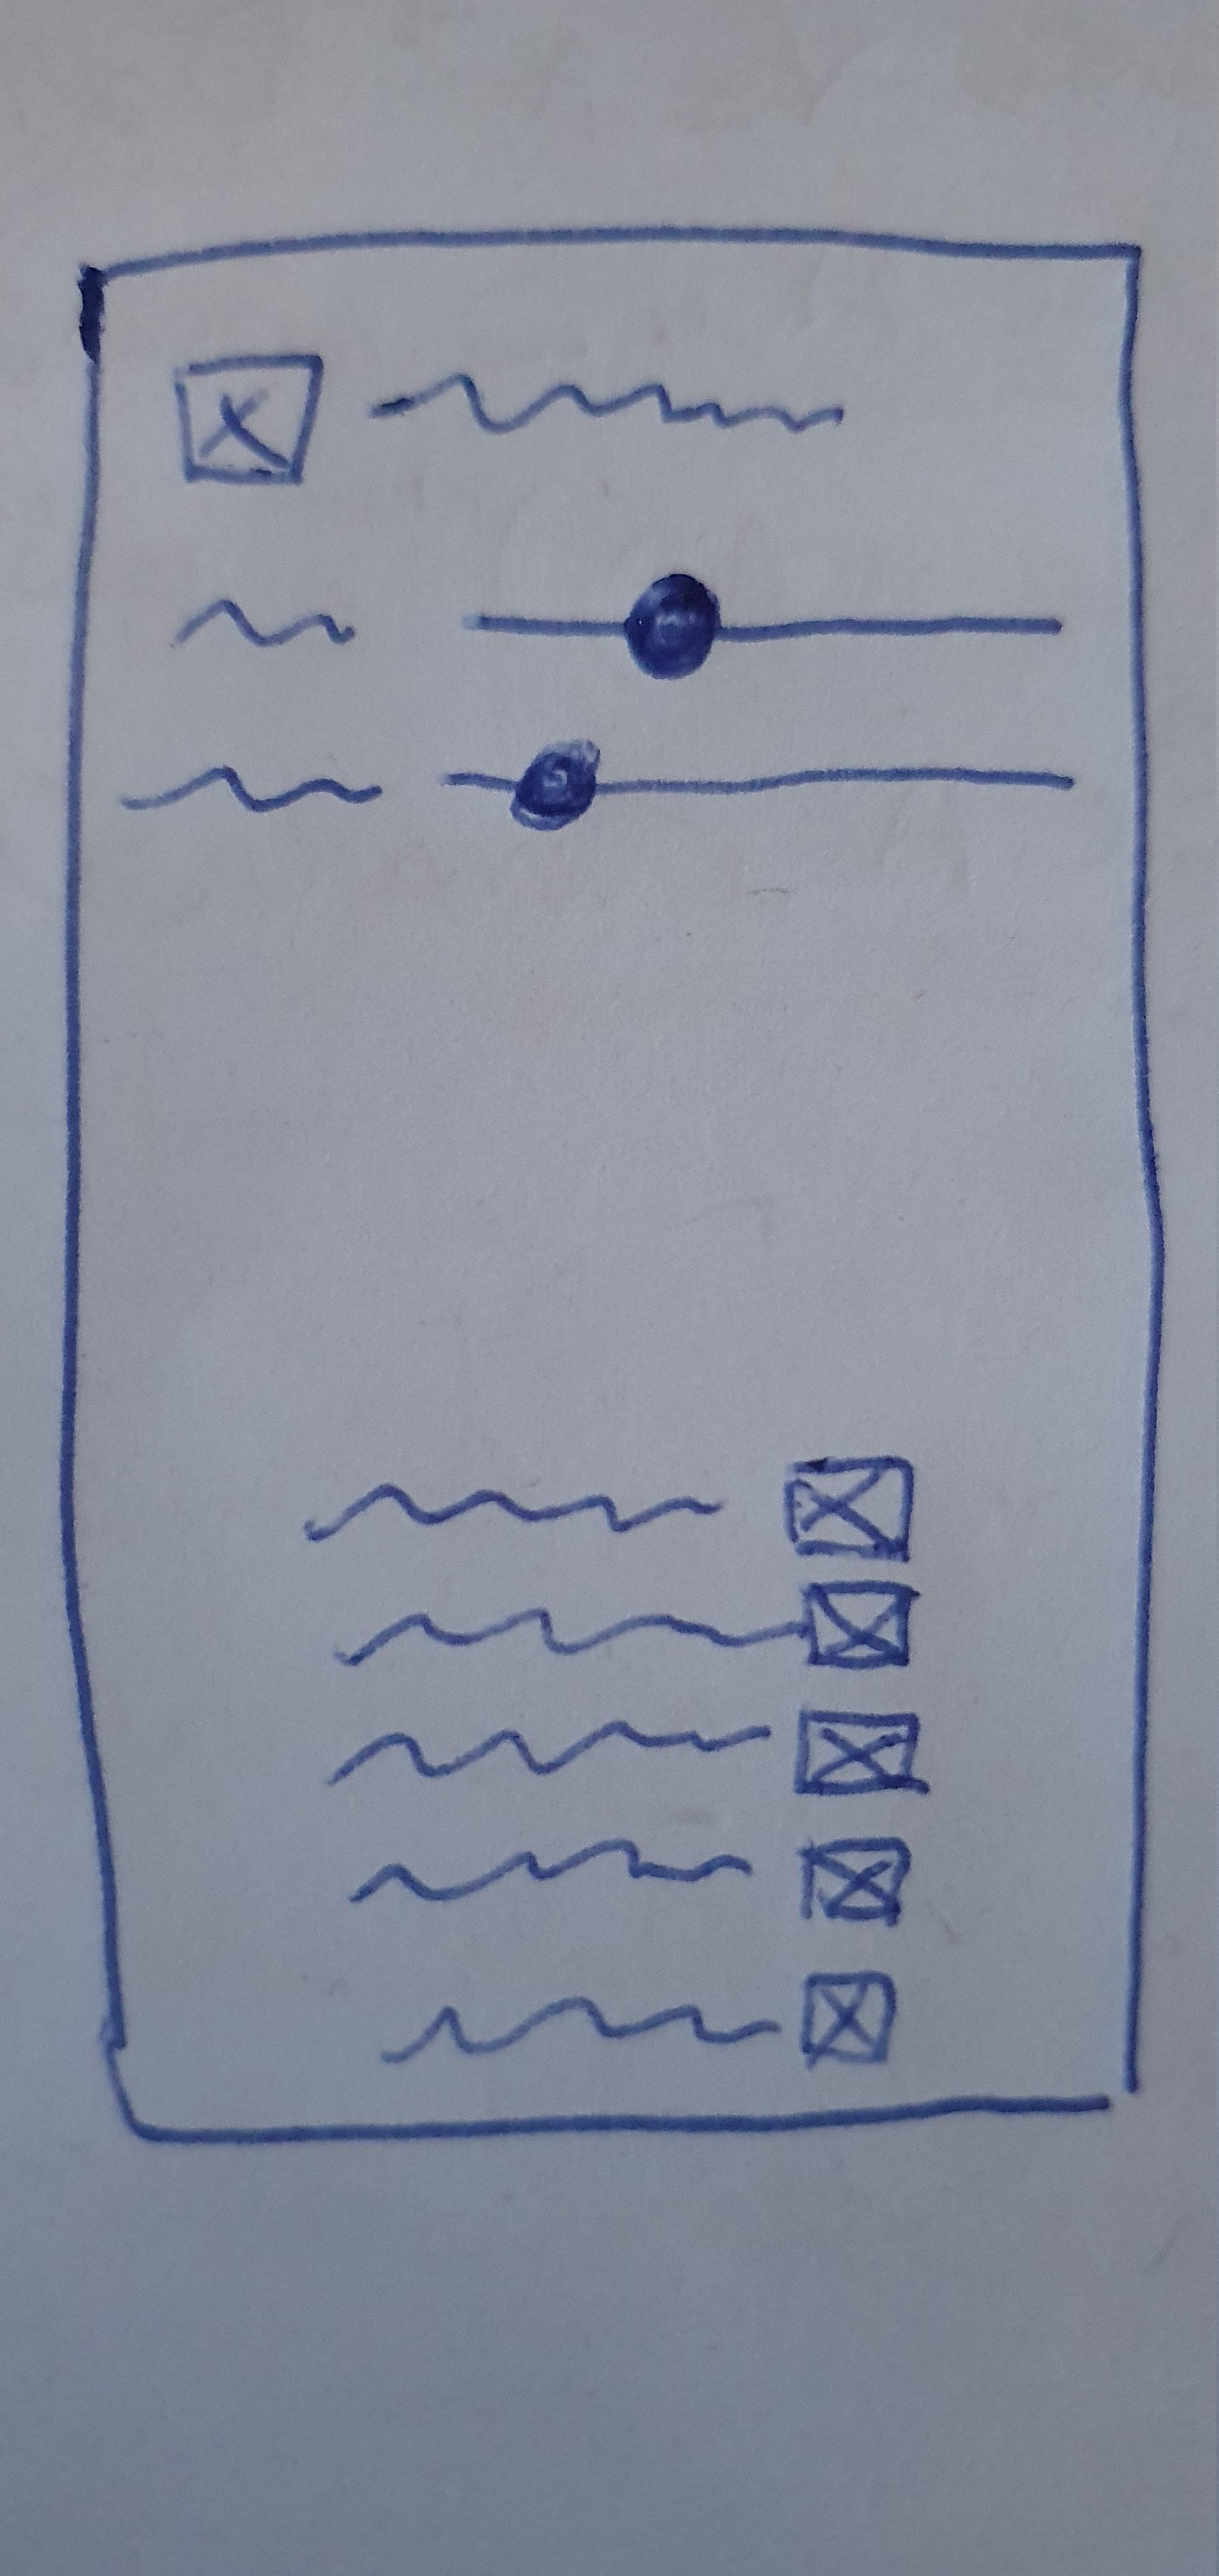CheckBox: (173, 348, 848, 484)
Image: (782, 1452, 916, 1562), (796, 1706, 922, 1794), (802, 1580, 918, 1670), (798, 1837, 912, 1928), (801, 1972, 898, 2061)
Label: (329, 1716, 772, 1788), (335, 1608, 806, 1668), (353, 1837, 755, 1905), (381, 1995, 782, 2063), (305, 1478, 726, 1540), (119, 763, 385, 817), (173, 592, 359, 646)
Screen: (59, 226, 1163, 2147)
Slider: (459, 572, 1066, 678), (439, 733, 1076, 829)
